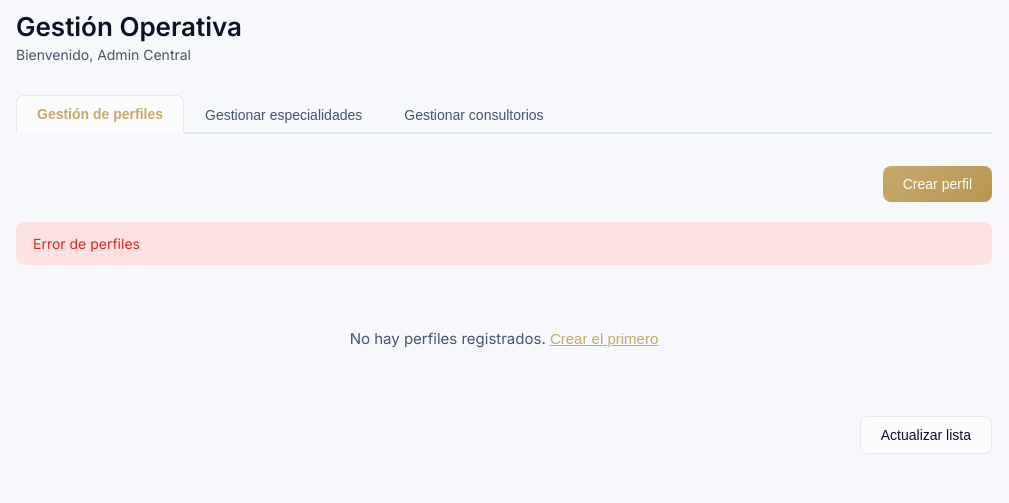
it: AdminProfilesPage › scopes profiles error to profiles mode and clears it when switching modes
Expected: the message reads "Error de perfiles", [33, 235, 140, 252]
Click the button with test id "btn-mode-offices". click: (474, 114)
box: [383, 95, 565, 134]
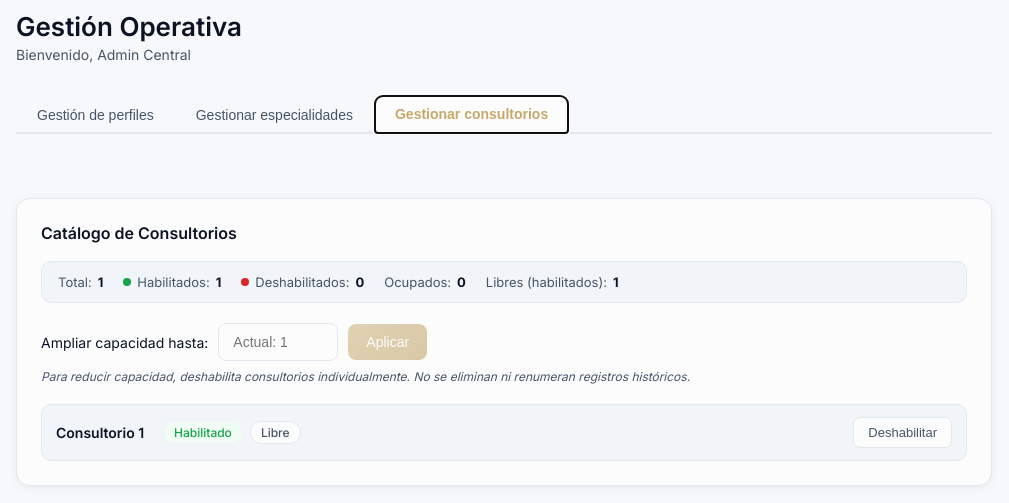
Expected: the navigation bar named "Selector de gestión" is shown, [16, 95, 992, 134]
Now the text "Error de perfiles" is gone
